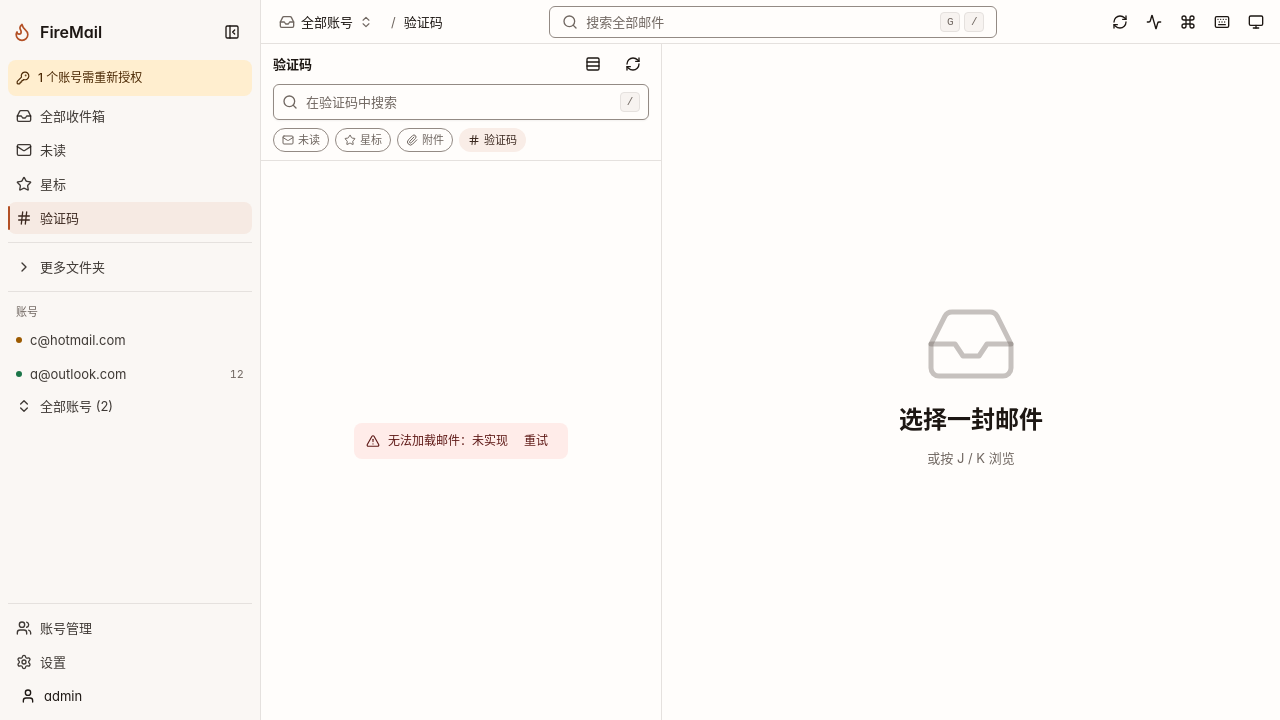
Scenario: 应用外壳 › 侧栏折叠后仍有可见、可聚焦、有正确无障碍名的展开入口
The width and height of the screenshot is (1280, 720).
Check: the navigation bar named "邮箱导航" is shown, box [0,0,260,719]
Step 1. Click the button named "折叠侧栏" → (232, 32), box [216,16,248,48]
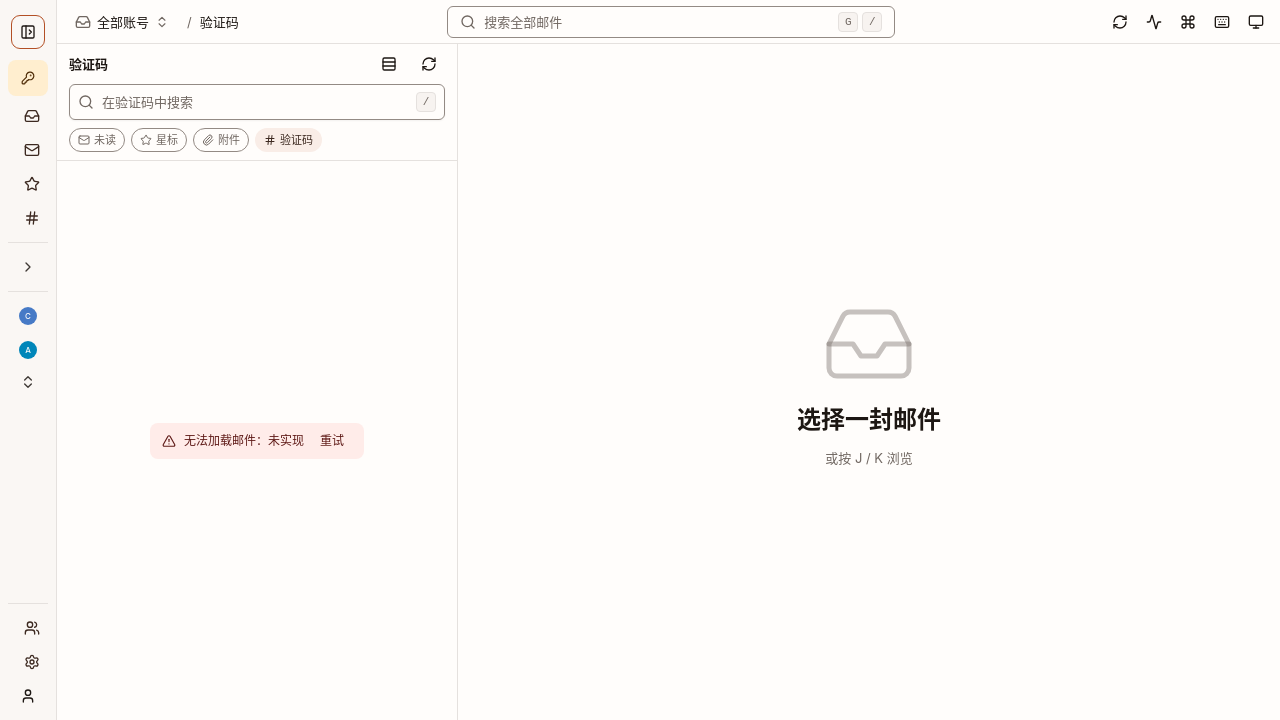
Check: the button named "展开侧栏" is collapsed, box [12,16,44,48]
Step 2. Press Enter
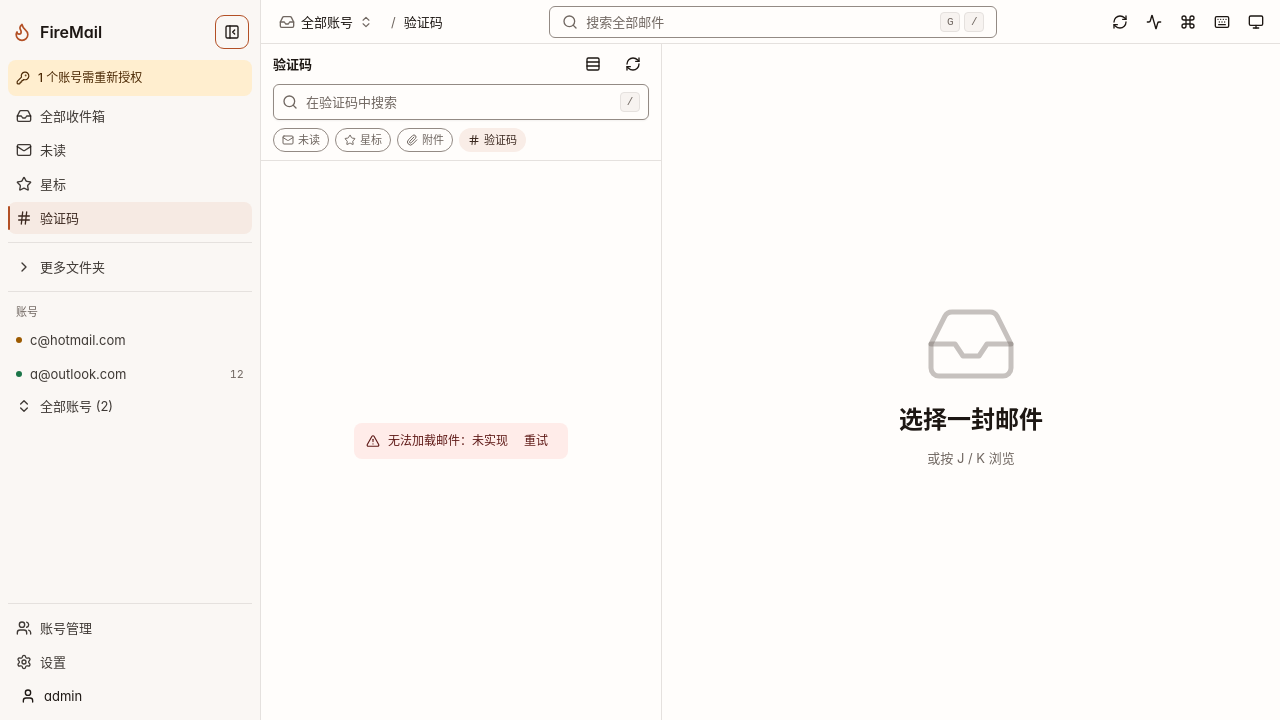
Check: the button named "折叠侧栏" is expanded, box [216,16,248,48]
